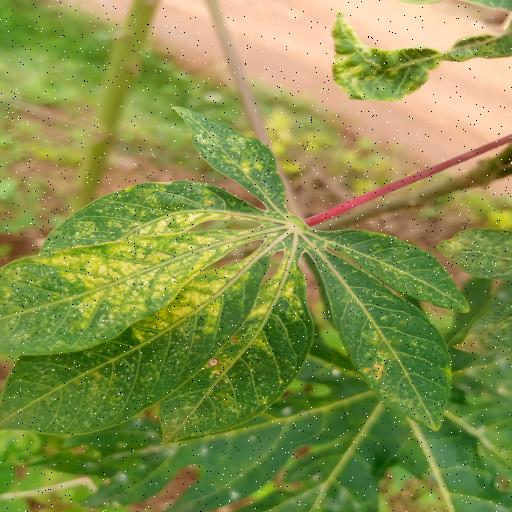Cassava_Mosaic: (0, 99, 479, 449)
